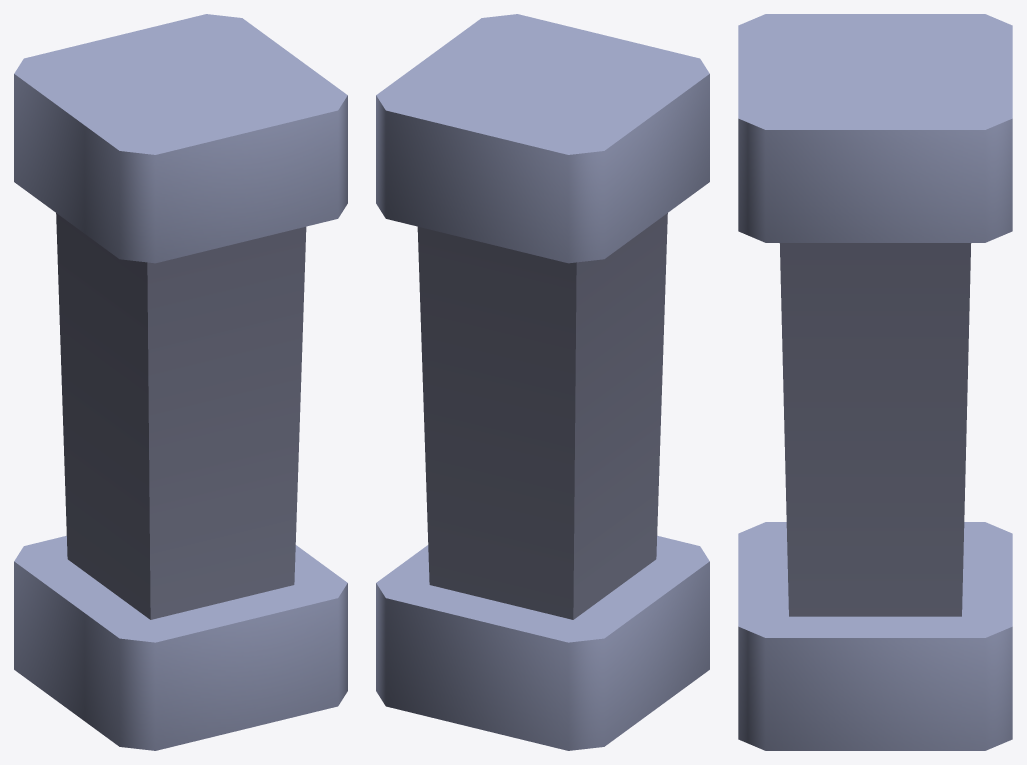
File: column.004_lev4.glb
3 renders of one model, left to right at view 1: azimuth 30°, elevation 25°; view 2: azimuth 150°, elevation 25°; view 3: azimuth 270°, elevation 25°, orthographic. The views are drawn at different scales.
Parts seen in each view (by area): view 1: column.004_lev4; view 2: column.004_lev4; view 3: column.004_lev4.
Boxes of the visible parts, x1,y1,x2,y2 form: column.004_lev4: (14,14,347,750); column.004_lev4: (376,14,709,750); column.004_lev4: (738,14,1012,750).
Size of the model in its own units: 4.53 by 11.31 by 4.53.
Materials: 1 (1 with a texture image).
